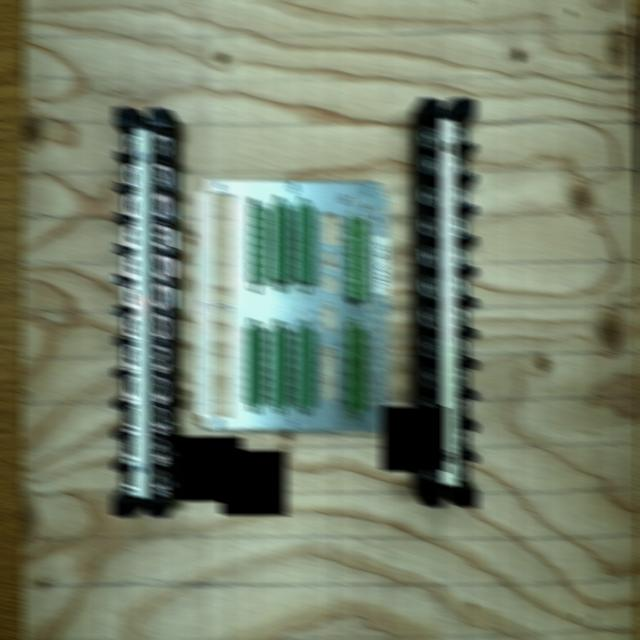Flathead_Block: (421, 98, 479, 506)
Phillips_Block: (111, 108, 171, 517)
Terminal_1: (346, 217, 368, 299), (346, 328, 367, 411)
Terminal_2: (294, 329, 315, 407), (269, 329, 290, 407), (294, 205, 315, 282), (270, 204, 291, 281), (244, 327, 264, 405)
